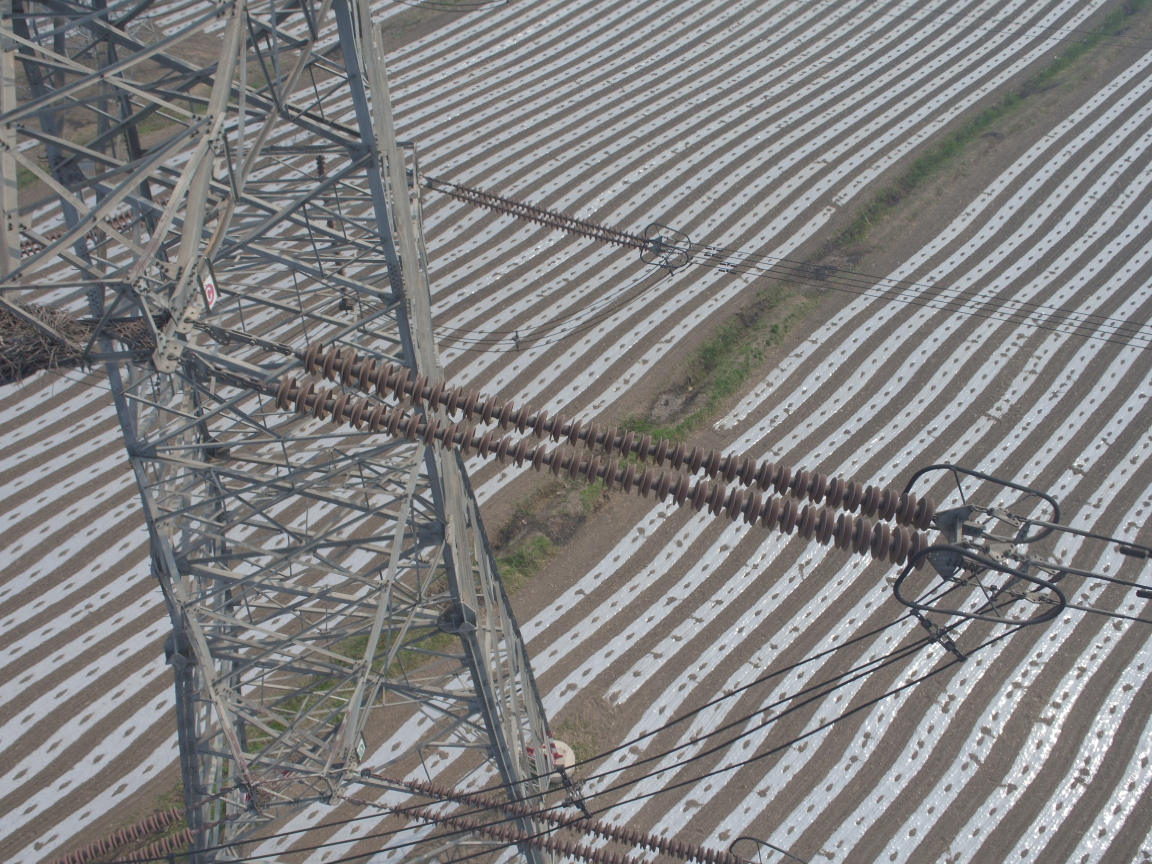insulator: (240, 332, 949, 573), (438, 181, 658, 255)
